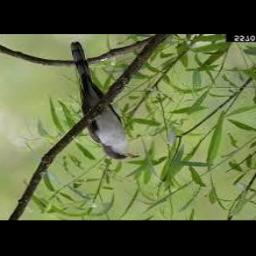Cuckoo: (70, 41, 138, 160)
